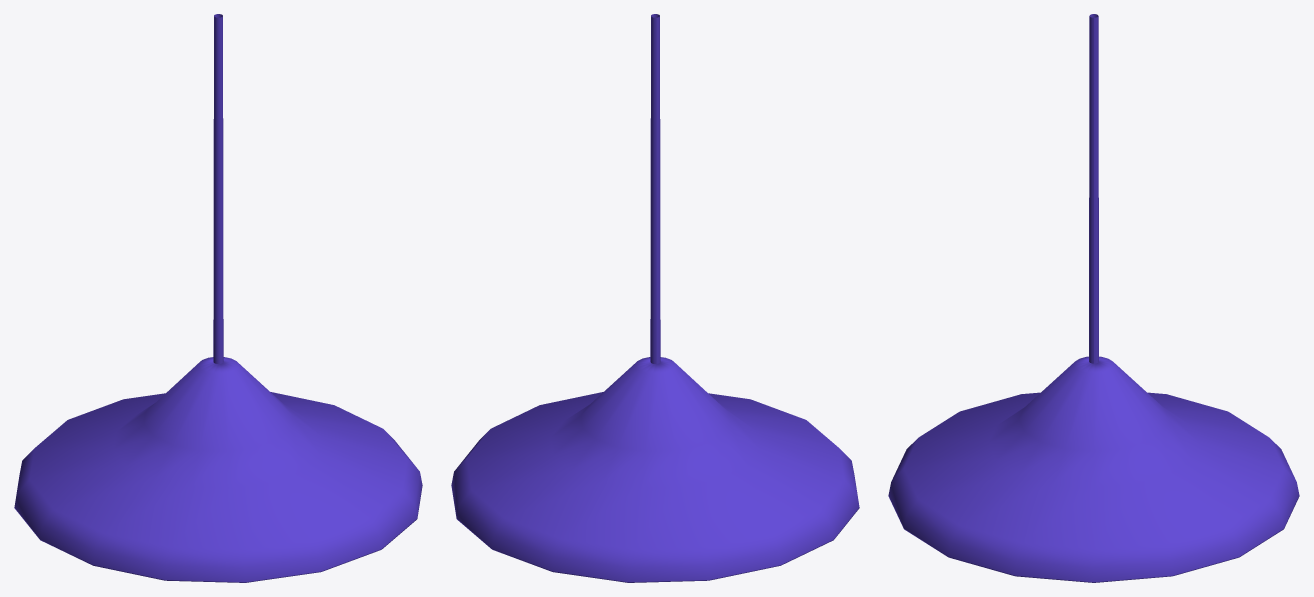
File: Light.fbx
3 views of the same model, side by side, from view 1: azimuth 30°, elevation 25°; view 2: azimuth 150°, elevation 25°; view 3: azimuth 270°, elevation 25° (orthographic).
Parts seen in each view (by area): view 1: Cylinder.000; view 2: Cylinder.000; view 3: Cylinder.000.
Boxes of the visible parts, <box> form: Cylinder.000: <box>14,14,422,582</box>; Cylinder.000: <box>451,14,859,582</box>; Cylinder.000: <box>888,14,1299,582</box>.
Bounding box in the file's own units: 200 × 258 × 200.
